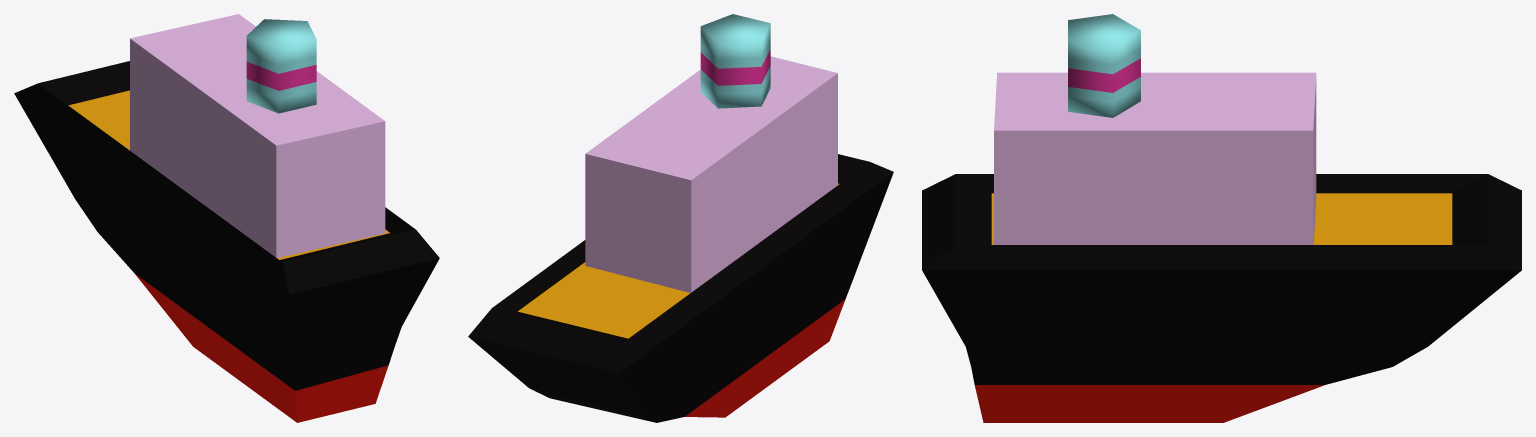
The model's file is ship.gltf.
3 views of the same model, side by side, from view 1: azimuth 30°, elevation 25°; view 2: azimuth 150°, elevation 25°; view 3: azimuth 270°, elevation 25° (orthographic). The views are drawn at different scales.
Visible parts, largest first — view 1: Cube, 立方体, 円柱; view 2: Cube, 立方体, 円柱; view 3: Cube, 立方体, 円柱.
Part boxes in pixels (x1,y1,x2,y2): Cube: (14,61,439,422); 立方体: (130,14,385,258); 円柱: (246,19,316,113); Cube: (468,154,893,422); 立方体: (585,56,837,292); 円柱: (700,14,770,108); Cube: (922,174,1521,422); 立方体: (994,72,1316,244); 円柱: (1068,14,1140,117).
Bounding box in the file's own units: 2 × 4.33 × 6.33.
